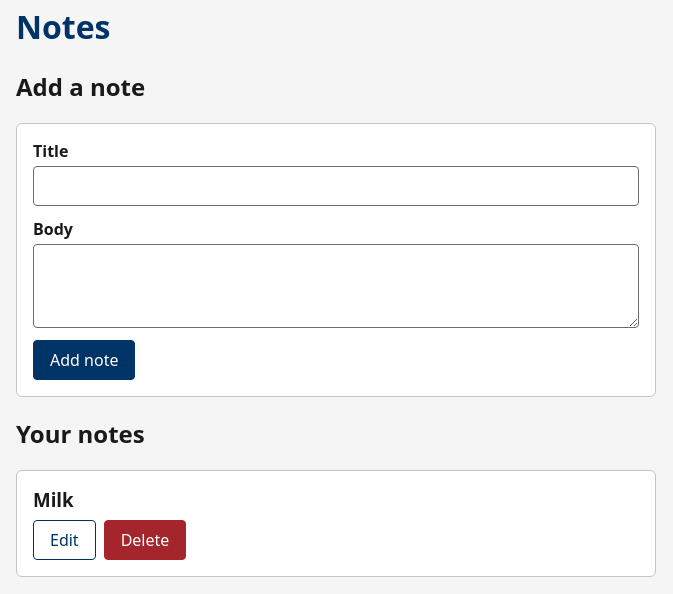
Test case: App › edits a note
Click the button with aria-label "Edit Milk" at (64, 540), box top-left (33, 520), bottom-right (96, 560)
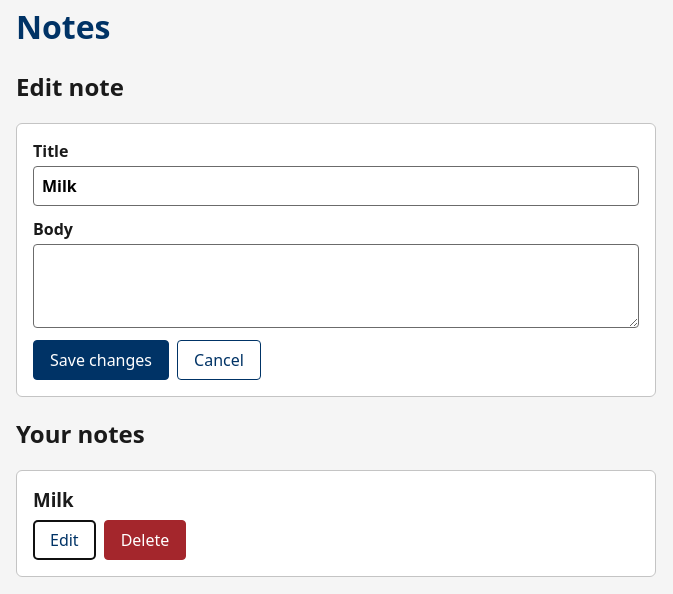
Replace the text in the field labelled "Title" with "Oat milk" at (336, 186), box top-left (33, 166), bottom-right (639, 206)
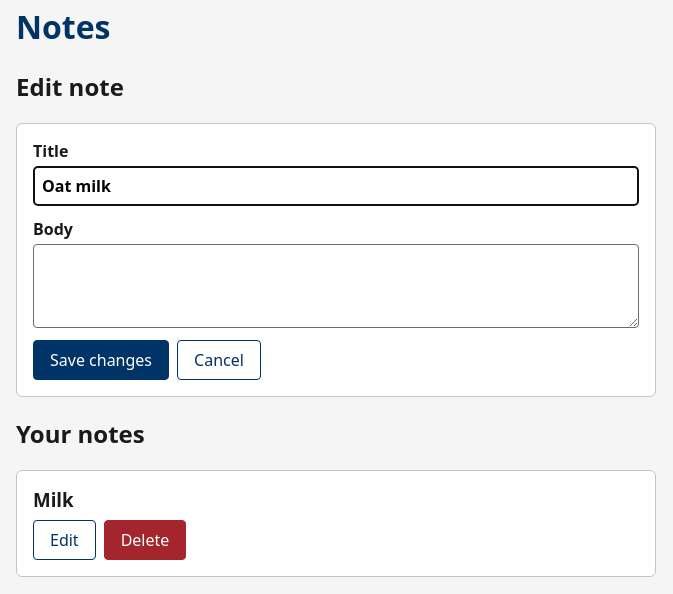
Click the button "Save changes" at (101, 360), box top-left (33, 340), bottom-right (169, 380)
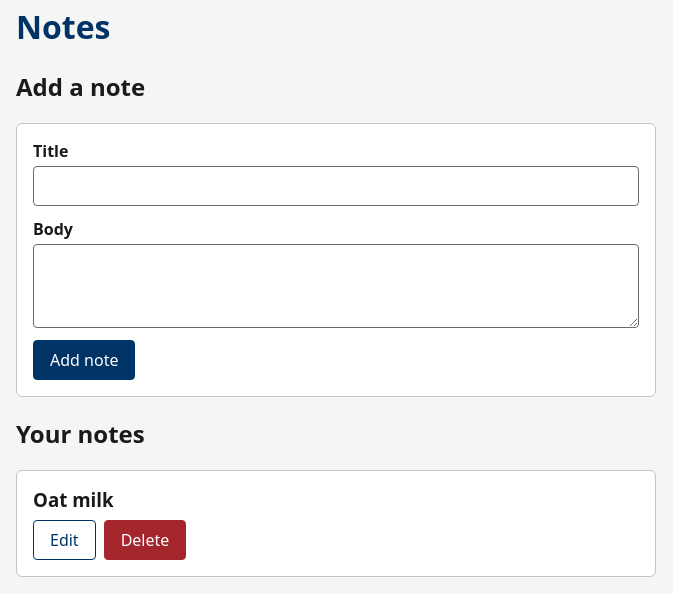
Check: the heading "Oat milk" is shown, box top-left (33, 487), bottom-right (114, 512)
